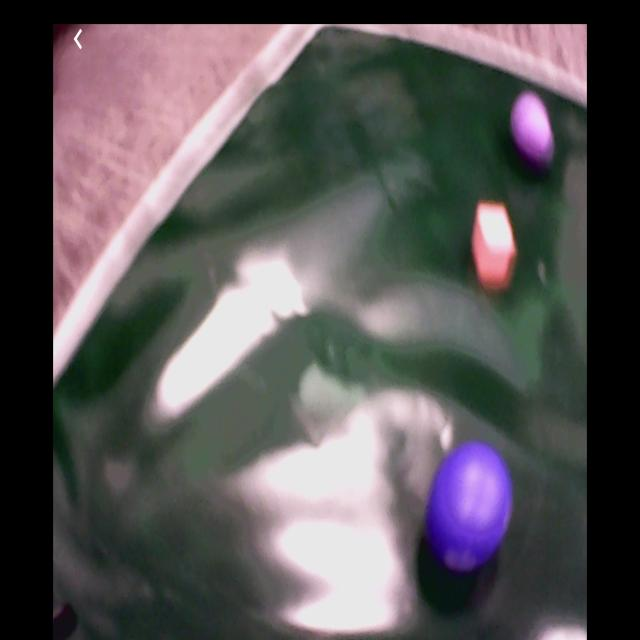ball: (429, 446, 512, 568), (512, 93, 554, 164)
